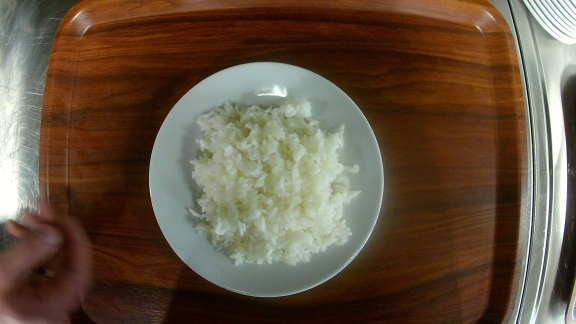pilav: (149, 60, 384, 297)
